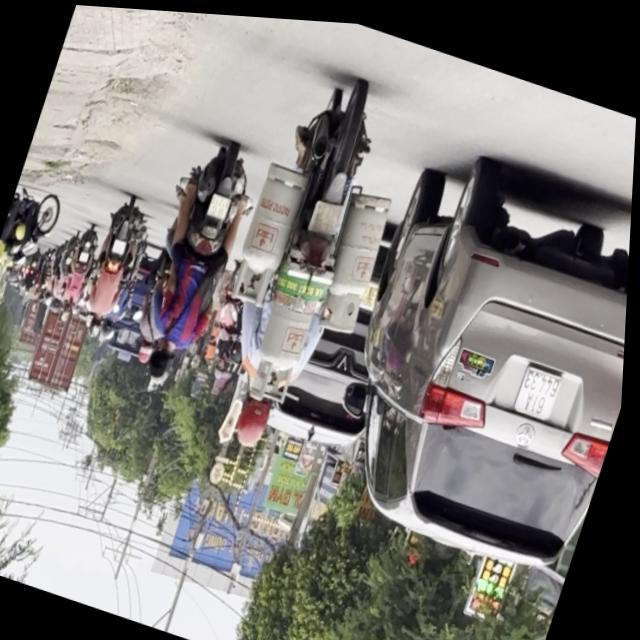helmet: (233, 388, 280, 449)
licenseplate: (187, 54, 407, 466), (117, 123, 271, 398)
motorcyclist: (147, 336, 180, 383)
nohelmet: (310, 194, 346, 233), (207, 189, 233, 219)
